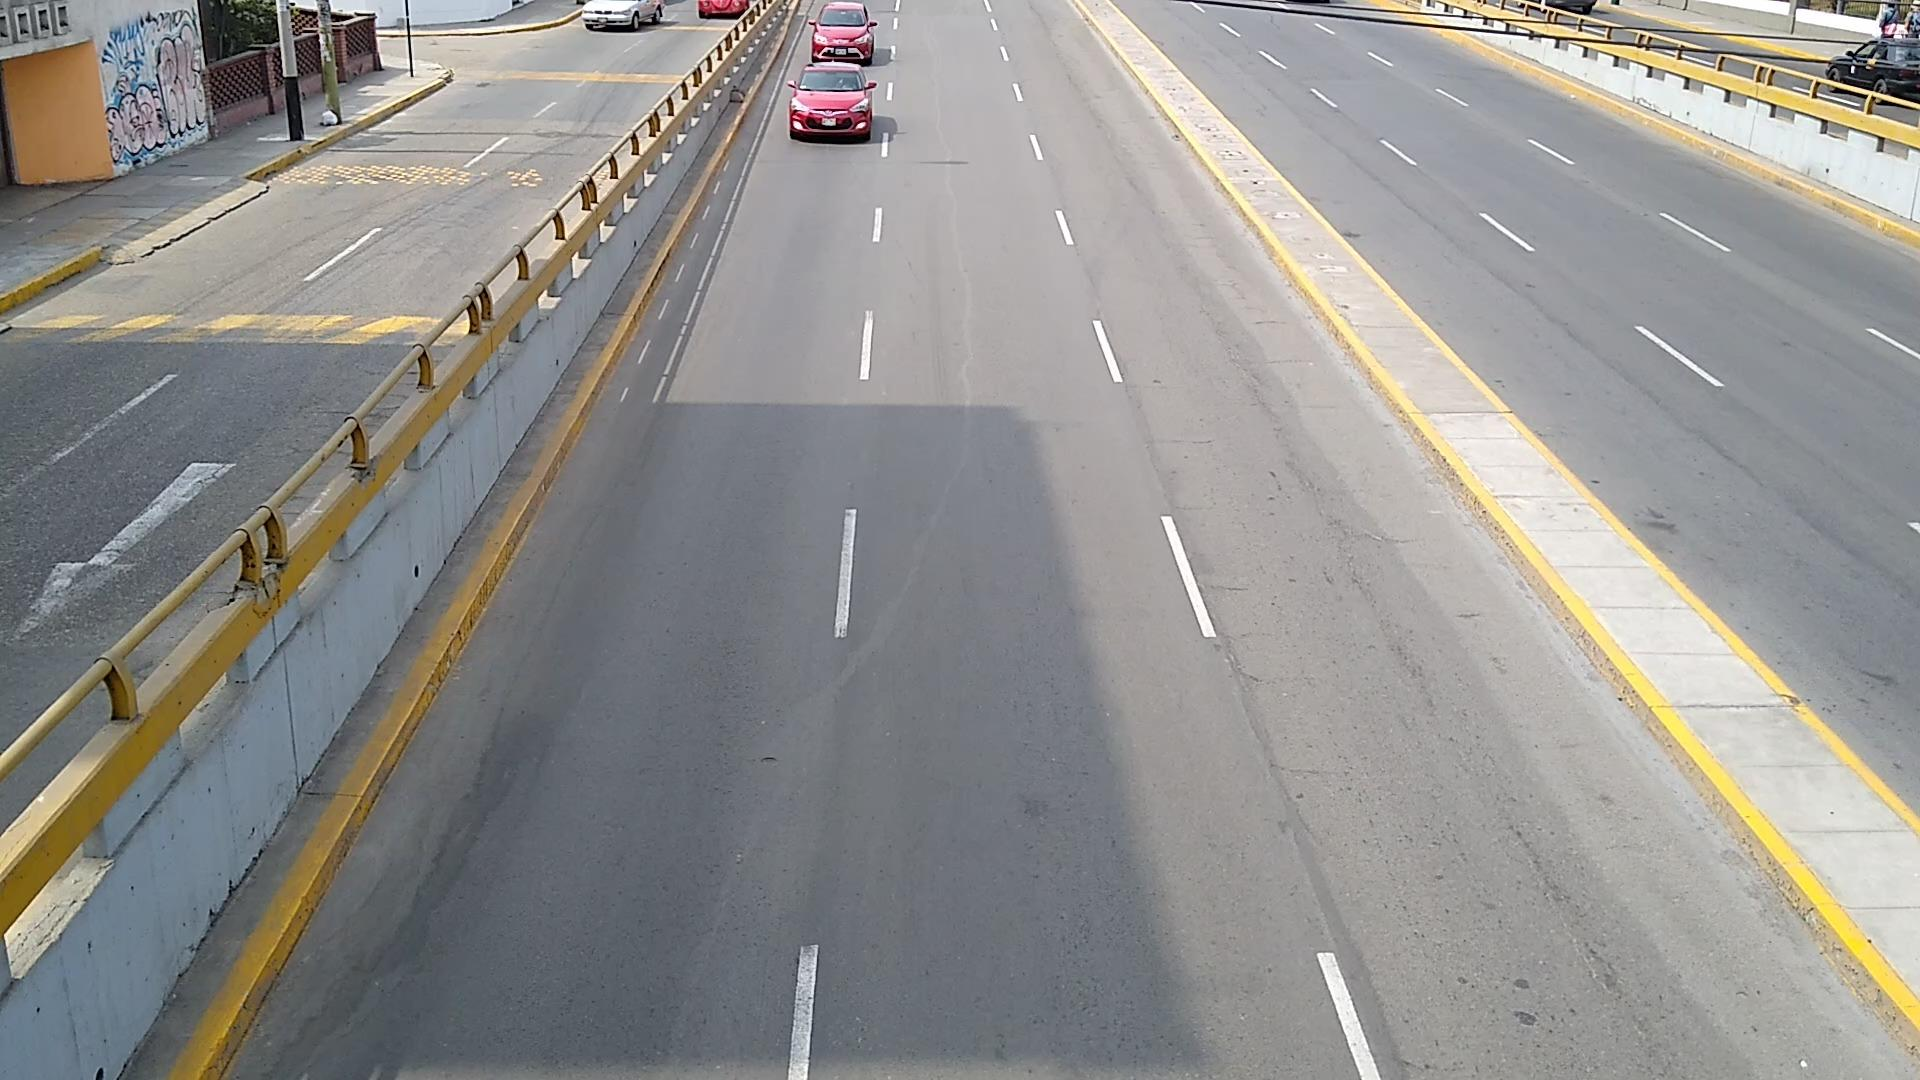car: (787, 63, 874, 141), (1826, 37, 1920, 99), (810, 0, 877, 63)
